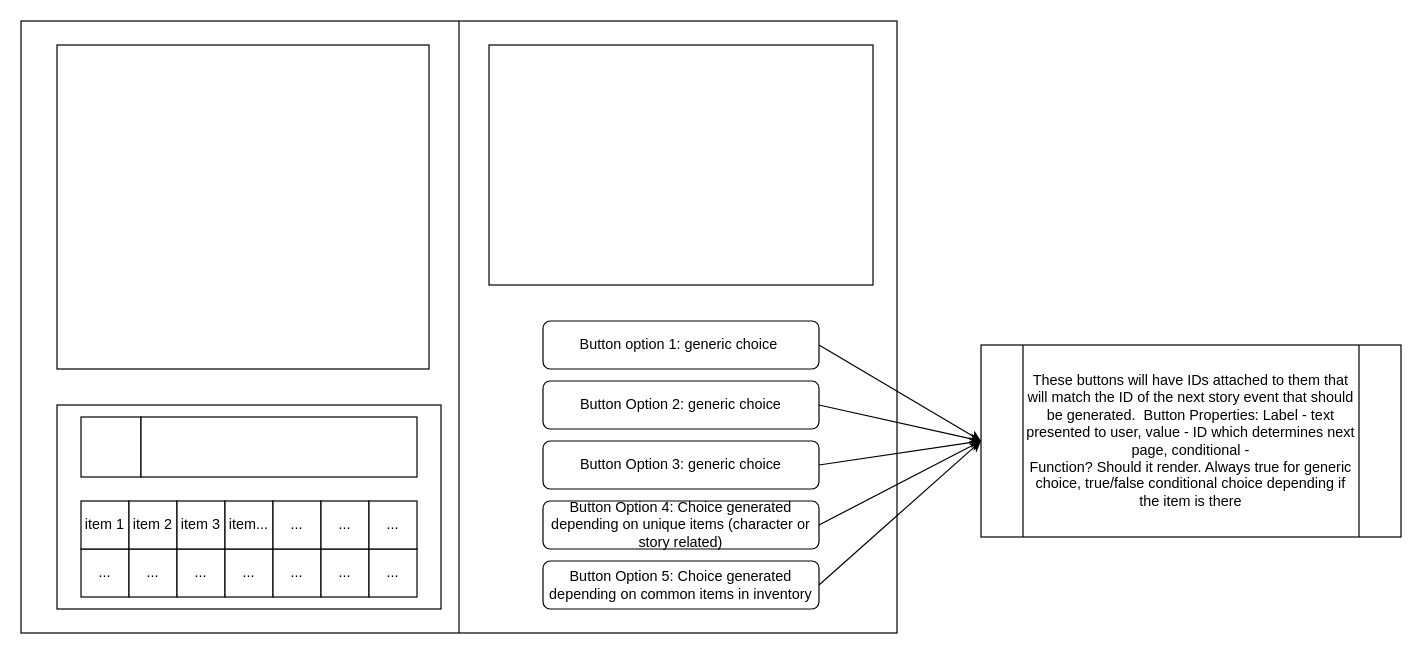
This 1422x655 diagram has some shape labels left out. The shapes that lost their labels are listed below. From the top down, each one's centre as x and y in pixels, then its label:
At point (680, 164): "Event text goes here".
At point (242, 206): "Space for event art or maybe map".
At point (110, 446): "character portrait".
At point (278, 446): "Character flavor text/ maybe stats".
